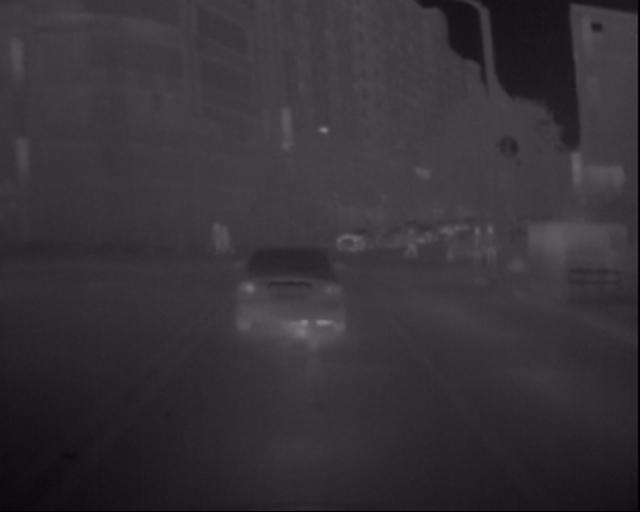person: (480, 224, 500, 269), (441, 226, 462, 267), (467, 226, 487, 269), (401, 225, 421, 264)
